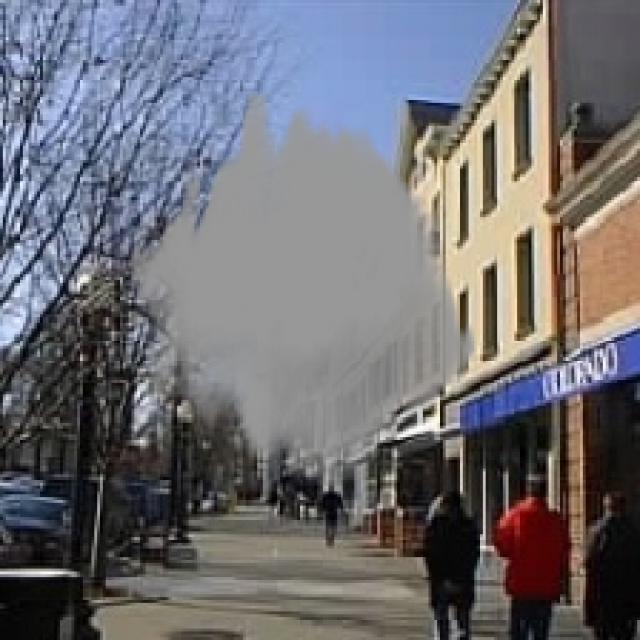Smoke: (128, 94, 478, 486)
